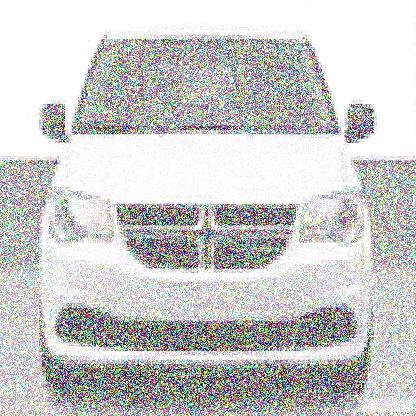Vehicle: (10, 4, 400, 412)
